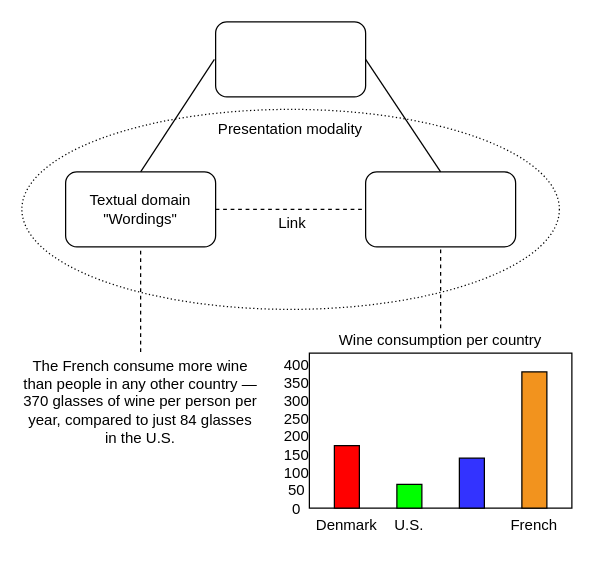
This 594x575 diagram has some shape labels left out. The centre of each missing label's shape, as x and y in pixels:
Application domain "Topic": (x=290, y=59)
Graphical domain "Graphs": (x=440, y=209)
Russia: (x=471, y=482)
